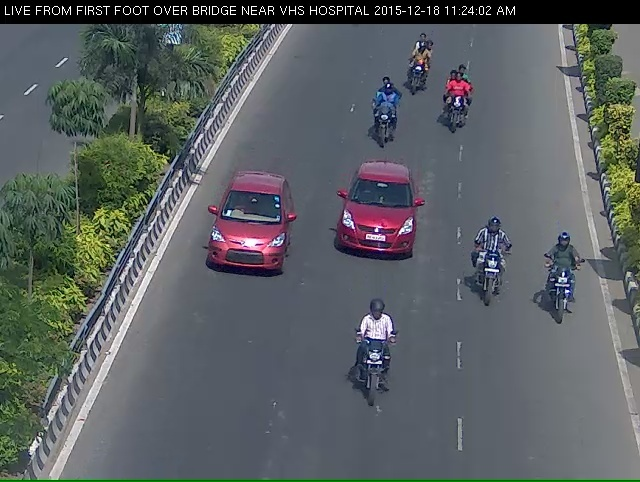Car: (196, 178, 289, 302), (332, 166, 423, 280)
Person: (346, 319, 403, 437), (550, 243, 585, 345), (471, 233, 510, 318), (359, 85, 401, 161), (437, 73, 475, 147), (402, 39, 431, 99)
